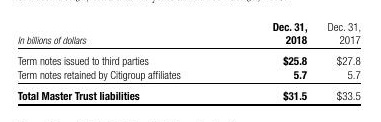table: (0, 0, 381, 122)
